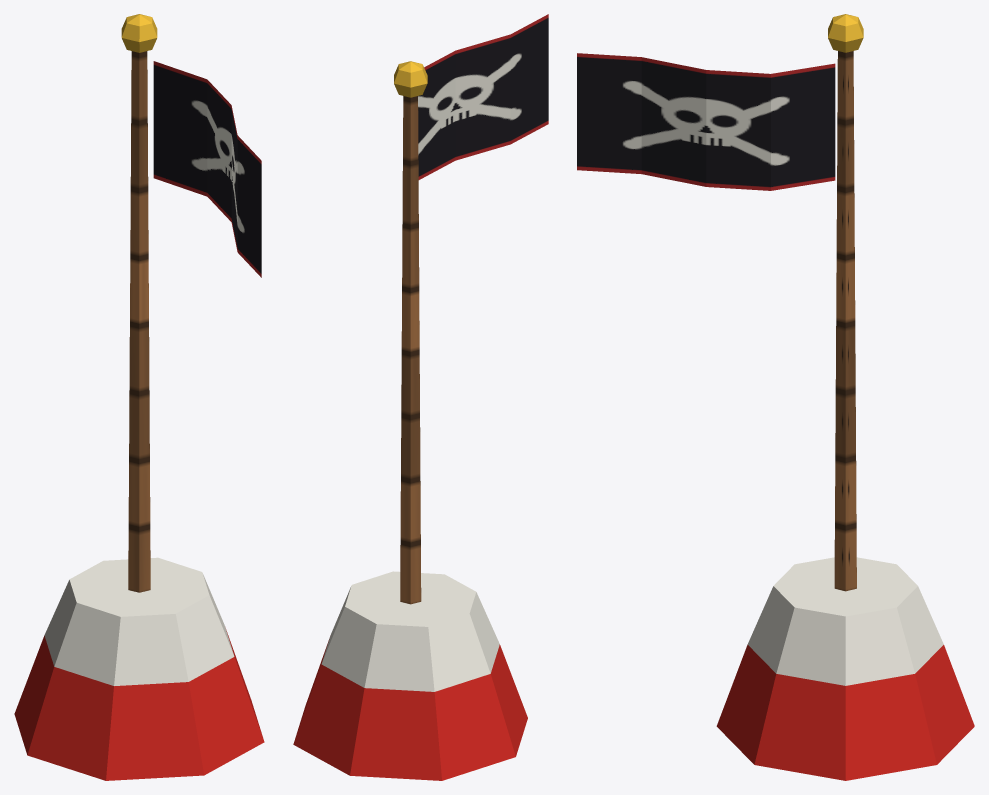
Rendered from flag.obj.
3 renders of one model, left to right at view 1: azimuth 30°, elevation 25°; view 2: azimuth 150°, elevation 25°; view 3: azimuth 270°, elevation 25°, orthographic. The views are drawn at different scales.
Parts seen in each view (by area): view 1: Buoy, Cloth; view 2: Buoy, Cloth; view 3: Buoy, Cloth.
Boxes of the visible parts, x1,y1,x2,y2 form: Buoy: (14,14,264,780); Cloth: (153,61,261,277); Buoy: (293,61,527,780); Cloth: (418,14,548,179); Buoy: (716,14,974,780); Cloth: (577,53,835,190).
Size of the model in its own units: 1 by 3.04 by 1.54.
Materials: 5 (2 with a texture image).
